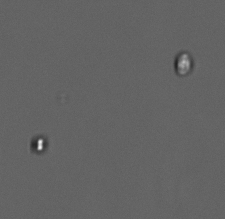Living Cell: (173, 51, 196, 77), (28, 133, 52, 154)
